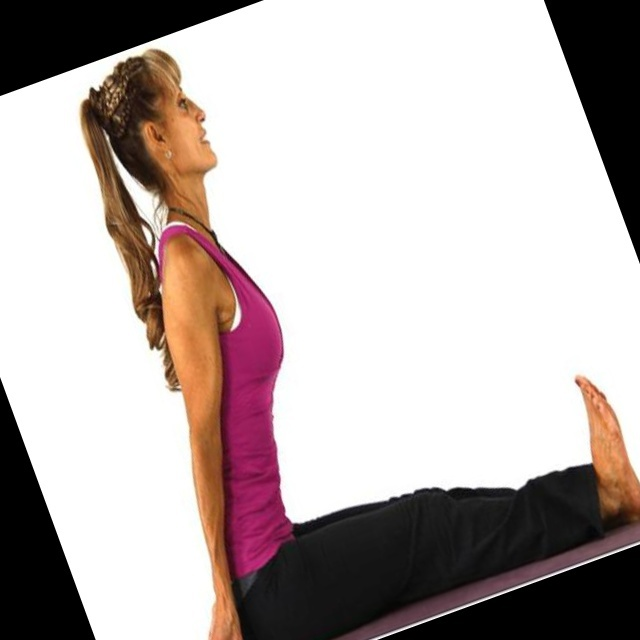Staff_Pose: (81, 49, 632, 634)
